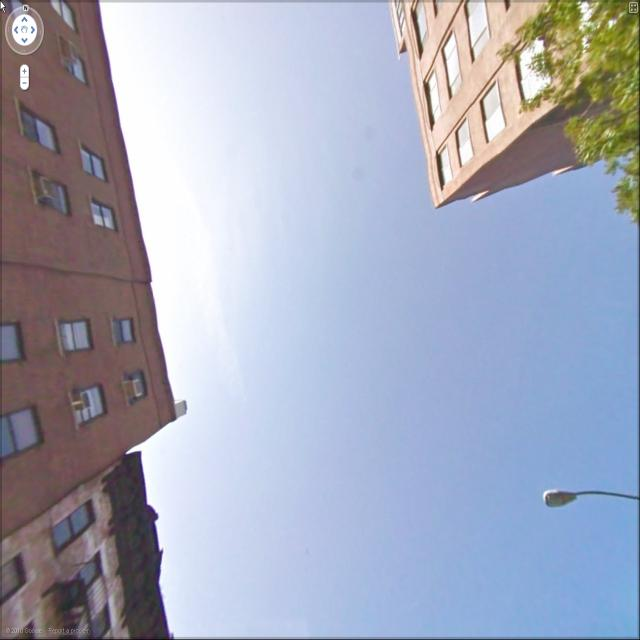b_1: (4, 1, 214, 612), (384, 3, 591, 223)
